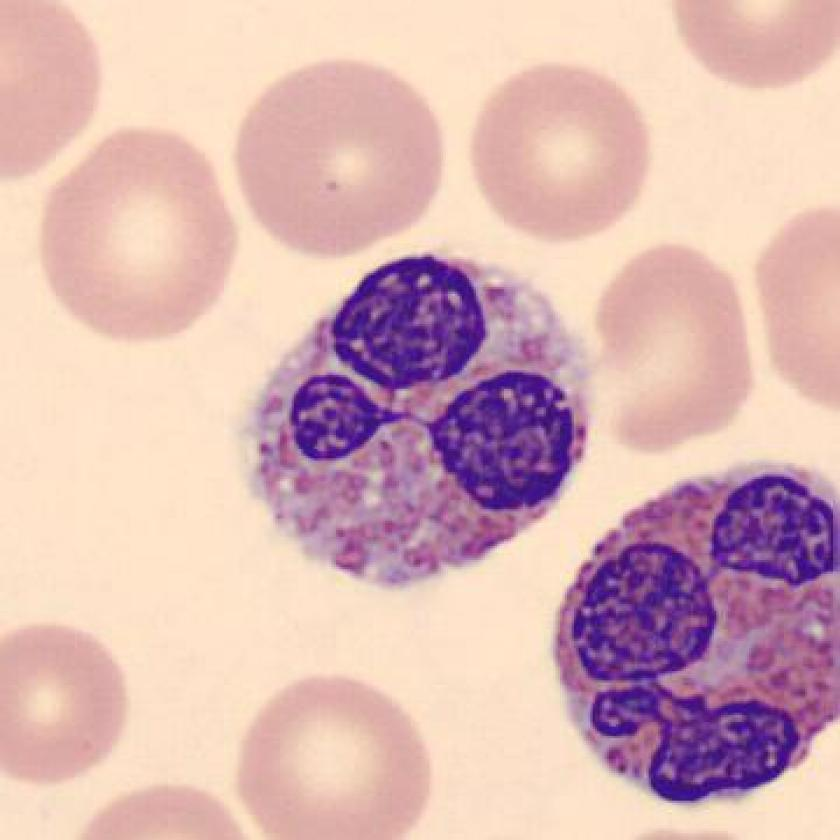eosinophil: (225, 237, 608, 605)
